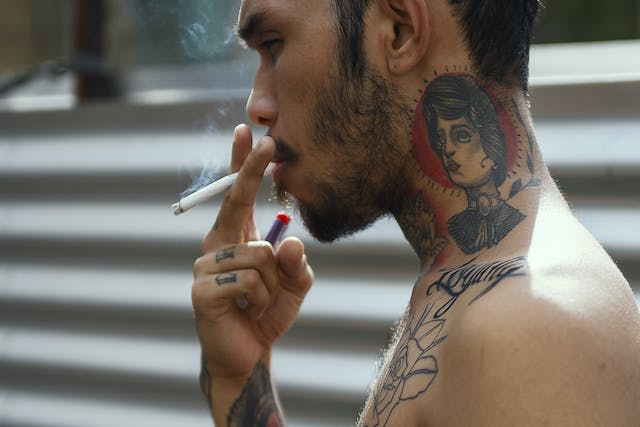Cigarette: (171, 160, 277, 216)
